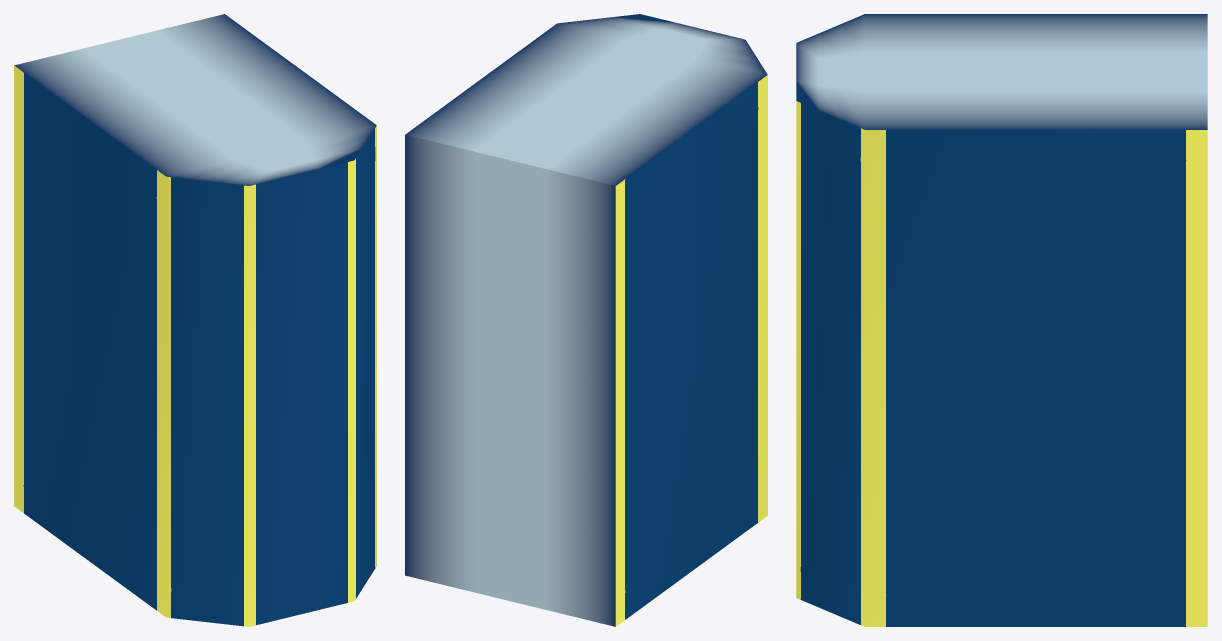
The model's file is book_02.gltf.
3 renders of one model, left to right at view 1: azimuth 30°, elevation 25°; view 2: azimuth 150°, elevation 25°; view 3: azimuth 270°, elevation 25°, orthographic. The views are drawn at different scales.
Bounding box in the file's own units: 2 × 4 × 3.
1 material, 1 textured.
